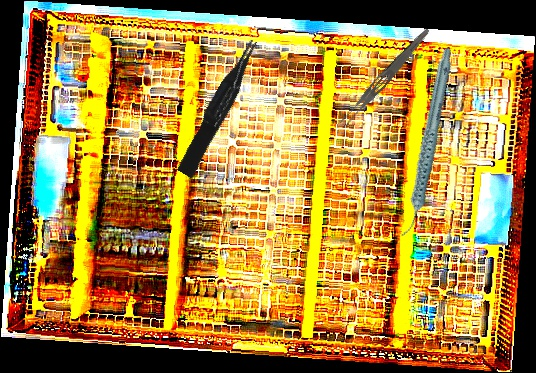Dressing Forceps: (336, 23, 433, 131)
Handpiece: (362, 45, 490, 240)
Tissue Forceps: (171, 37, 269, 179)
